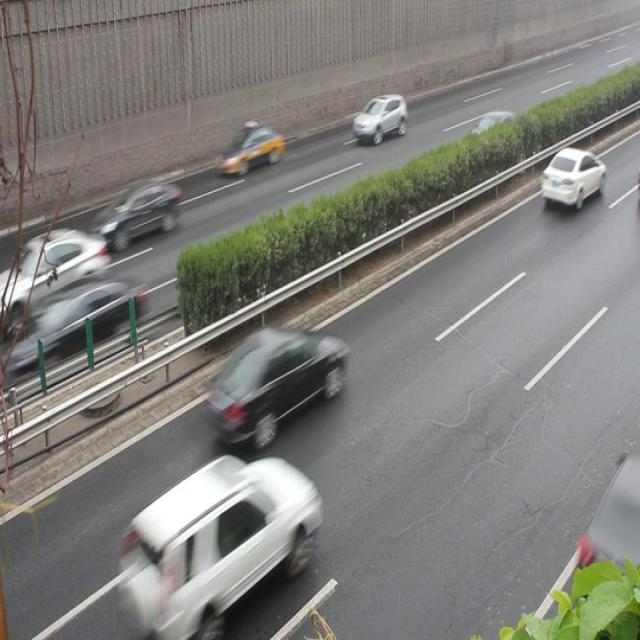car: (114, 455, 316, 628), (204, 325, 345, 443), (36, 274, 144, 361), (10, 226, 109, 318), (89, 176, 182, 248), (539, 145, 604, 207), (217, 124, 284, 177), (456, 109, 518, 164), (352, 92, 407, 144)
